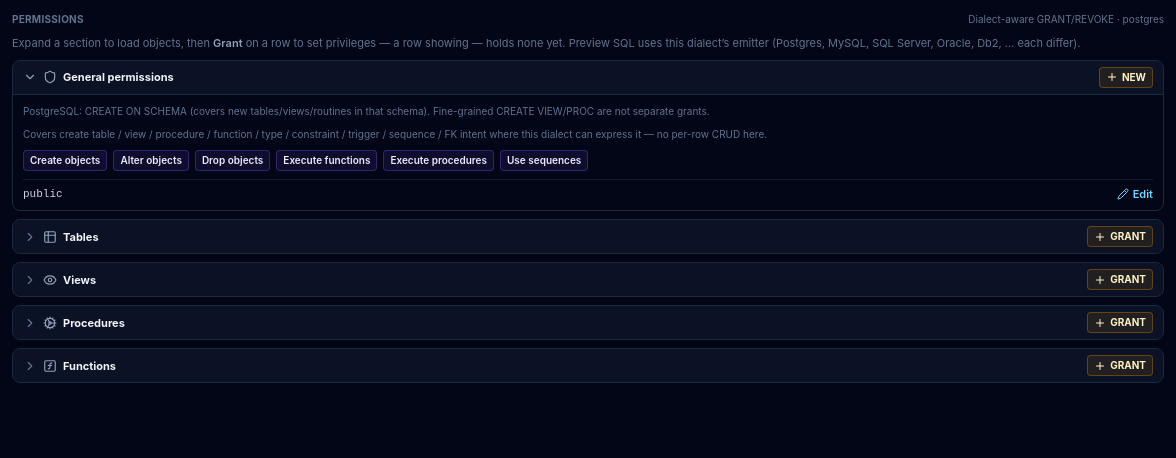
Test: how the grid offers to set a permission › offers Grant on a row that holds nothing
This screenshot has width=1176, height=458.
Step 1. Click the button with test id "db-access-expand-table" → (81,236), box [23,228,1079,245]
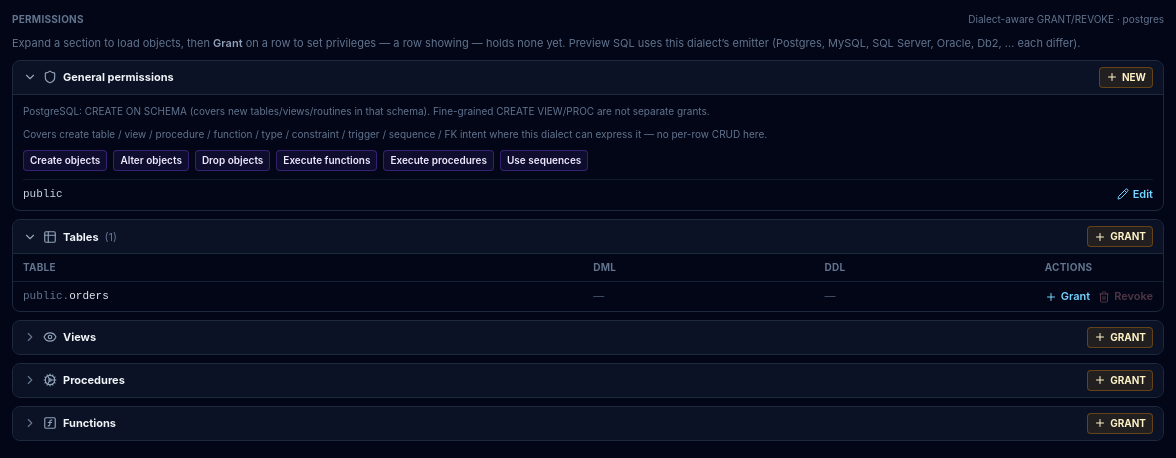
Expected: the button with test id "db-access-edit-orders" reads "Grant", [1045,288,1090,305]
